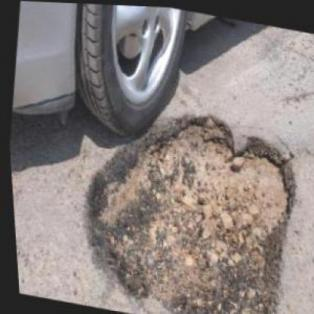Hueco: (63, 89, 311, 313)
